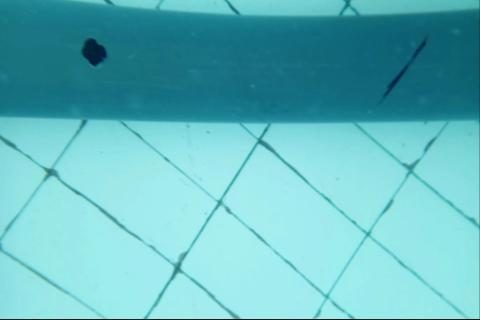kebocoran: (80, 37, 108, 67)
keretakan: (376, 31, 429, 104)
